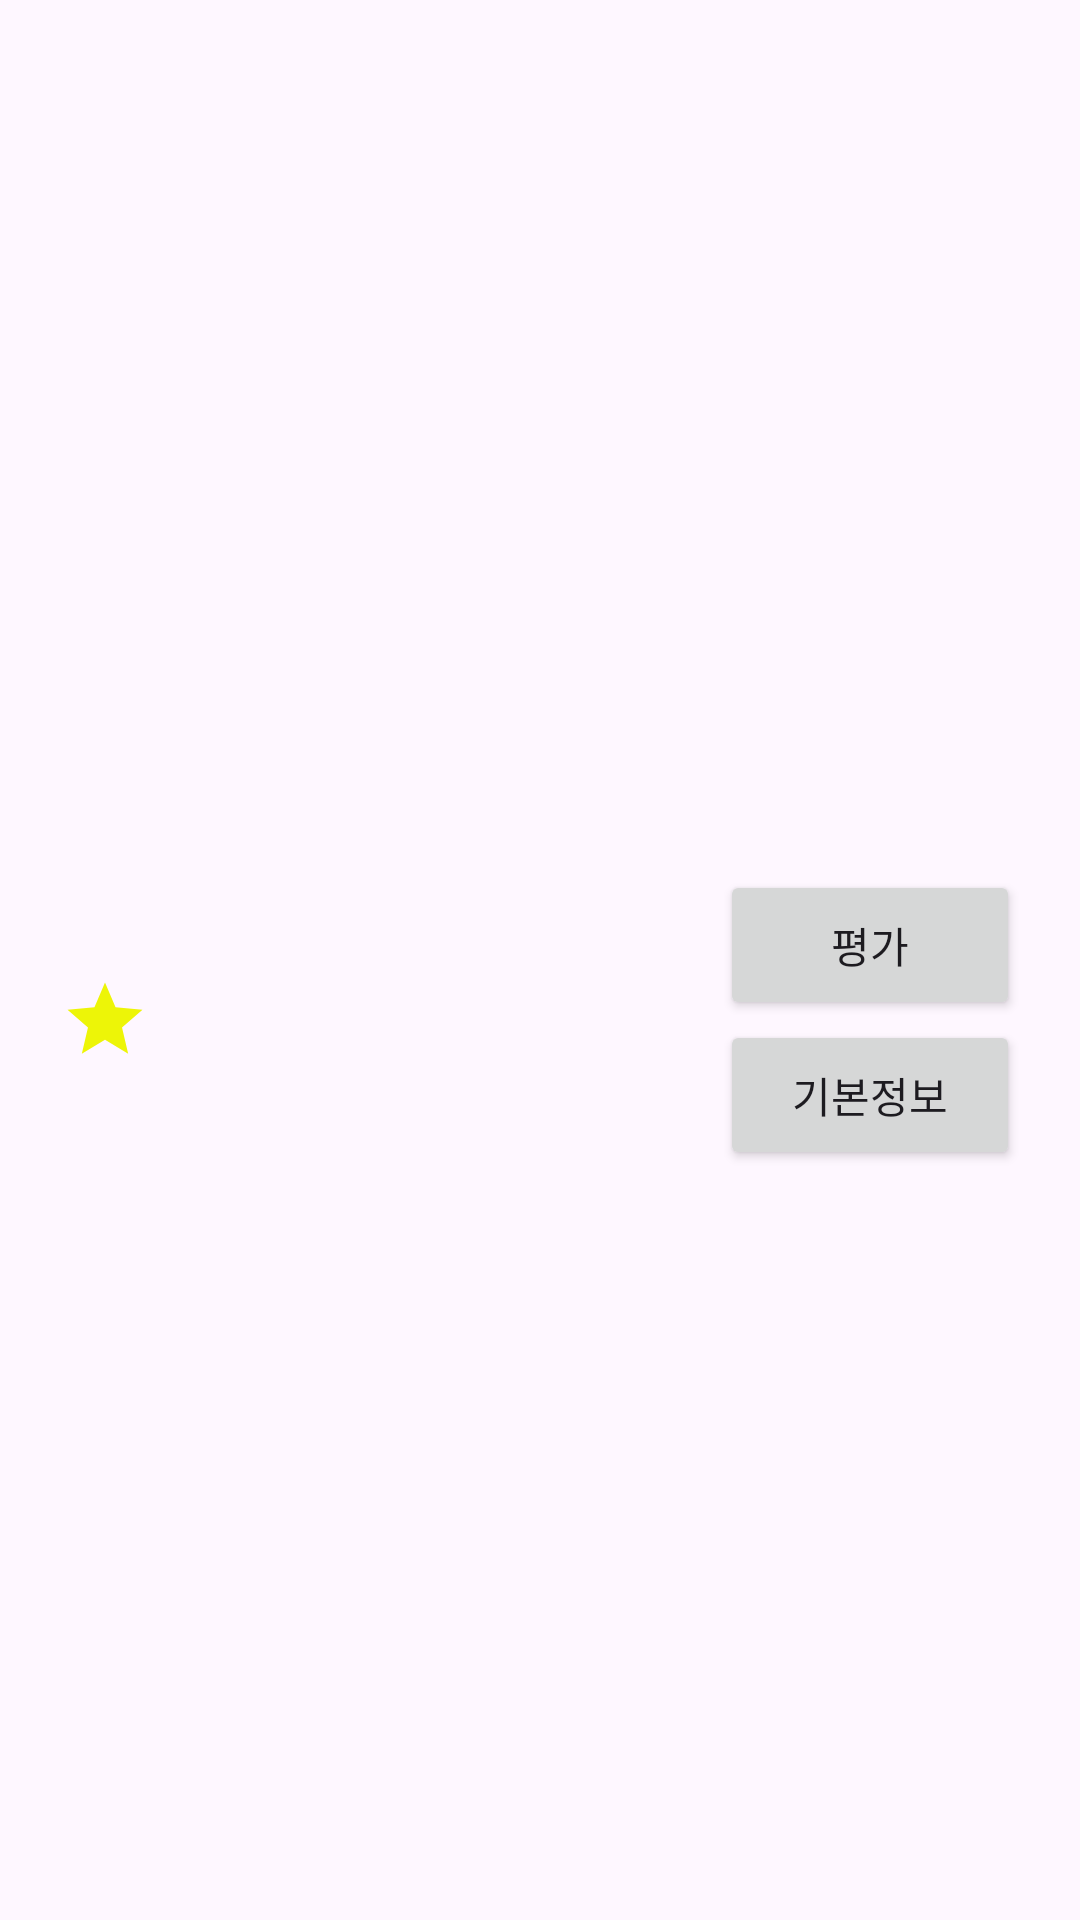

Where icons sit on this 1080×1920 app screen, as (left=x1, top=y1, right=x2, bottom=y2):
rating star: (left=68, top=983, right=142, bottom=1054)
